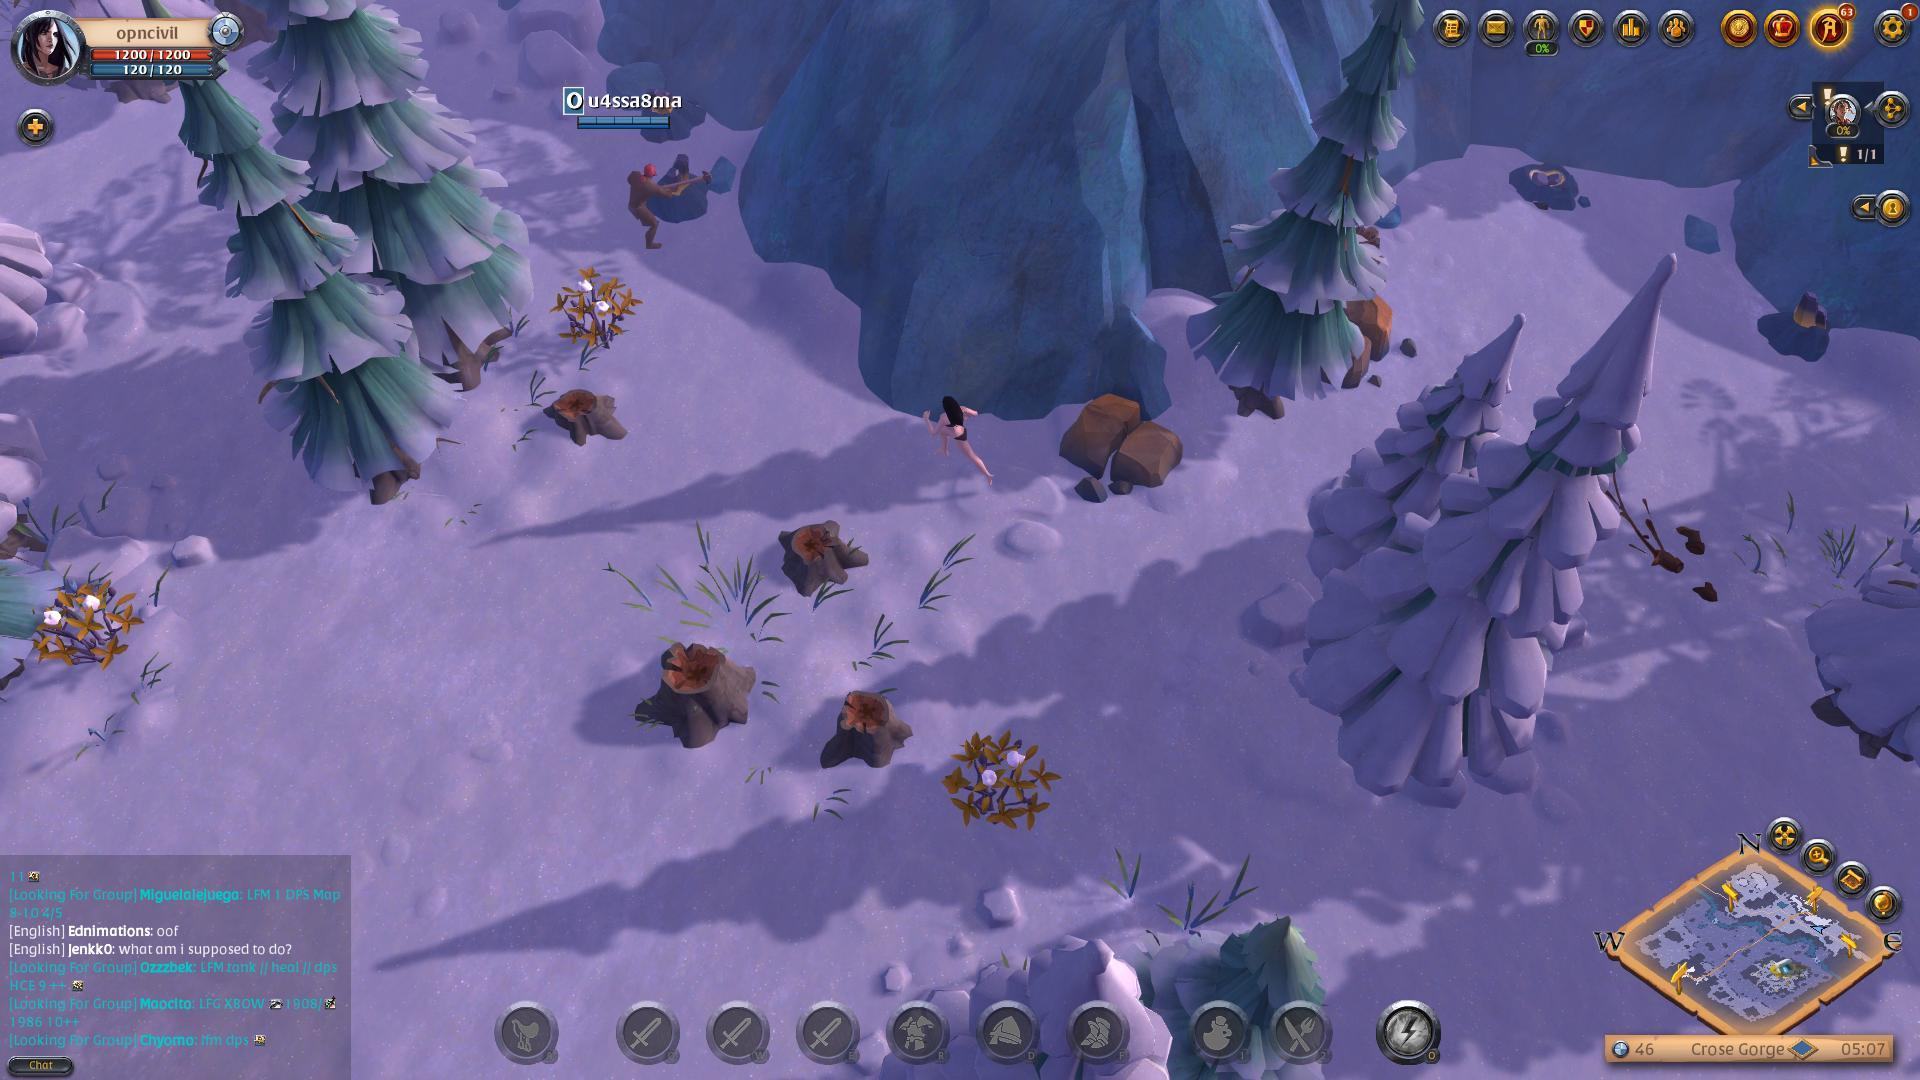copper_ore: (1754, 298, 1863, 364)
cotton: (21, 574, 161, 674), (943, 740, 1077, 840), (558, 274, 655, 345)
limestone: (1056, 388, 1189, 508)
